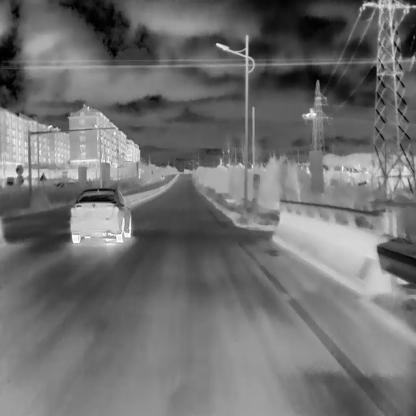car: (69, 186, 131, 242), (159, 174, 164, 179)
